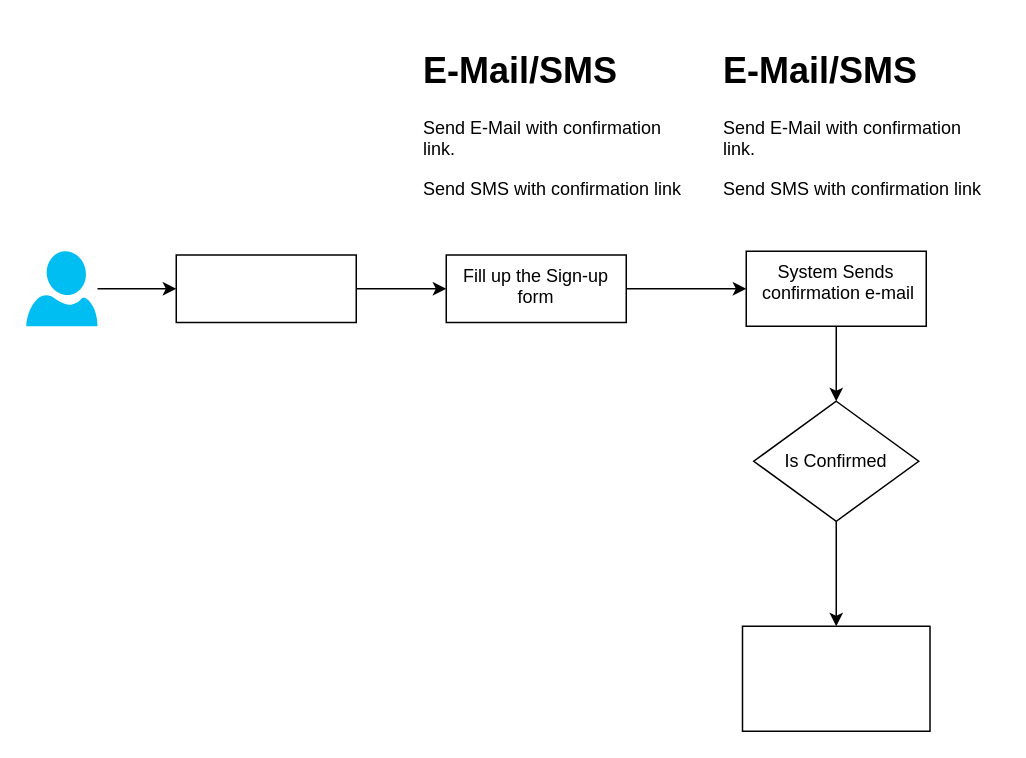
Some shapes in this 1026 by 758 pixel diagram are drawn without their labels. Each missing label, with the box of its shape:
Request for sign-up using sign-up link: (175, 254, 356, 322)
System creates new database and registration is confirmed: (741, 625, 930, 731)
